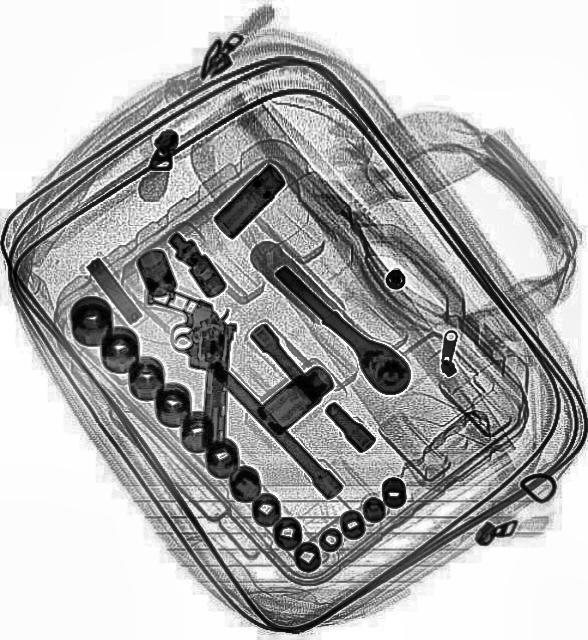Gun: (138, 282, 235, 444)
